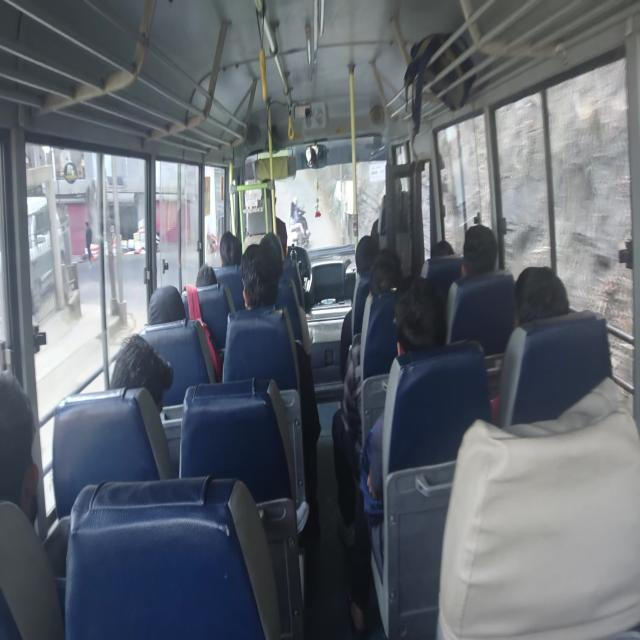person: (348, 275, 447, 633), (239, 242, 321, 532), (332, 247, 403, 544), (0, 368, 66, 638), (491, 264, 570, 422), (446, 223, 498, 342), (0, 368, 39, 524), (339, 234, 379, 380), (110, 332, 173, 414), (514, 265, 569, 326), (459, 223, 498, 279), (147, 285, 186, 324), (290, 195, 310, 245), (219, 230, 242, 266), (195, 263, 218, 286), (84, 220, 93, 267)
